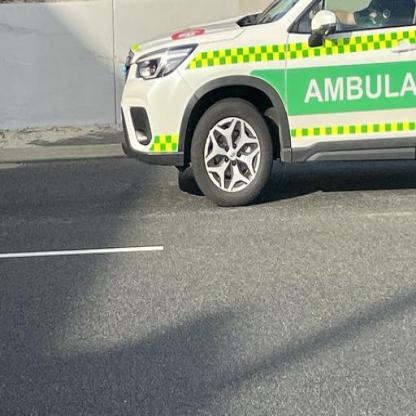Tire: (190, 96, 272, 207)
